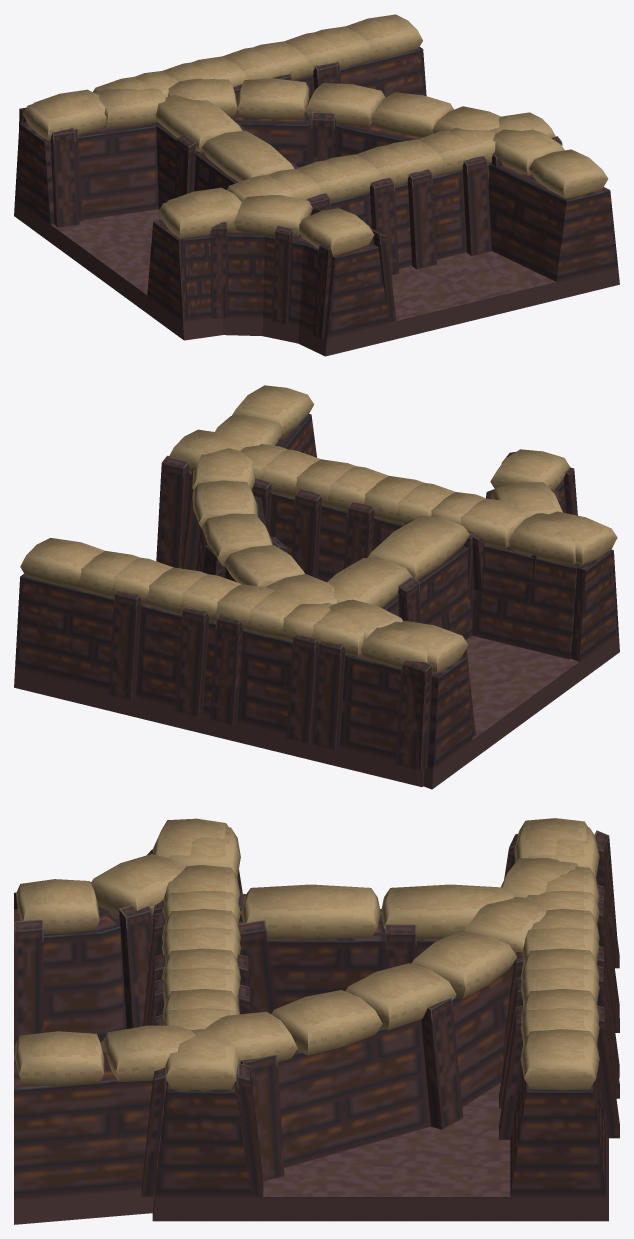
Rendered from Trench.fbx.
The picture shows the model from 3 angles, top to bottom: view 1: azimuth 30°, elevation 25°; view 2: azimuth 150°, elevation 25°; view 3: azimuth 270°, elevation 25°; orthographic projection. The views are drawn at different scales.
Visible parts, largest first — view 1: TrenchCurve, TrenchStraight, TrenchEnd, TrenchEntrance; view 2: TrenchStraight, TrenchCurve, TrenchEnd, TrenchEntrance; view 3: TrenchCurve, TrenchStraight, TrenchEnd, TrenchEntrance.
Part boxes in pixels (x1,y1,x2,y2): TrenchCurve: (14,78,619,356); TrenchStraight: (23,18,562,286); TrenchEnd: (135,26,503,269); TrenchEntrance: (25,14,555,269); TrenchStraight: (14,437,576,786); TrenchCurve: (181,385,619,789); TrenchEnd: (73,444,485,743); TrenchEntrance: (20,429,580,786); TrenchCurve: (14,818,617,1224); TrenchStraight: (141,827,619,1221); TrenchEnd: (143,884,619,1166); TrenchEntrance: (142,841,619,1221).
Size of the model in its own units: 417 by 123 by 424.
